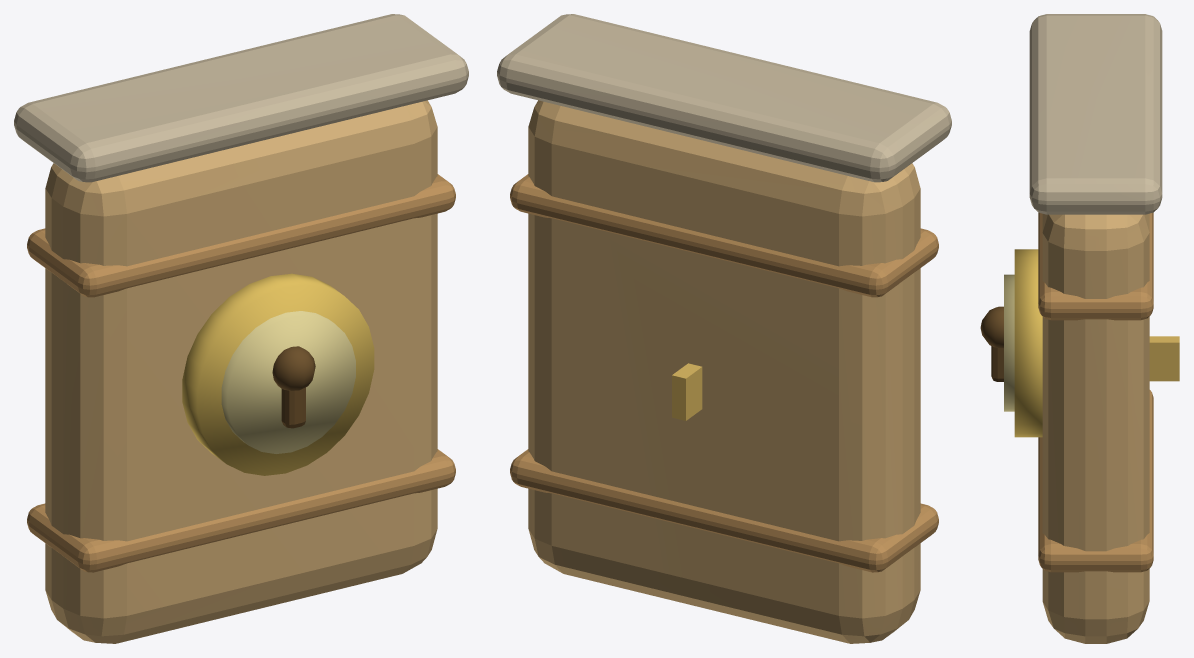
File: gym_lock_lite.glb
The picture shows the model from 3 angles, left to right: view 1: azimuth 30°, elevation 25°; view 2: azimuth 150°, elevation 25°; view 3: azimuth 270°, elevation 25°; orthographic projection. The views are drawn at different scales.
Visible parts, largest first — view 1: Cube; view 2: Cube; view 3: Cube.
Part boxes in pixels (bbox=[...]): Cube: bbox=[14, 14, 468, 643]; Cube: bbox=[497, 14, 951, 643]; Cube: bbox=[980, 14, 1179, 643].
Size of the model in its own units: 1.96 by 2.47 by 0.93.
